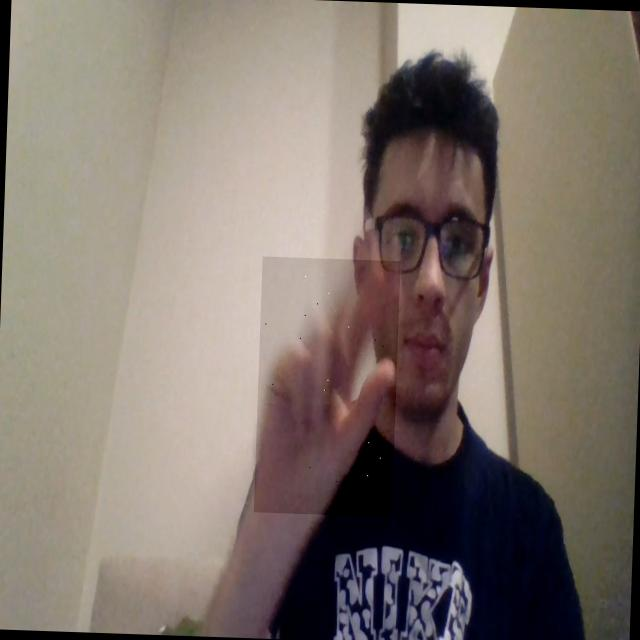no: (254, 256, 401, 517)
